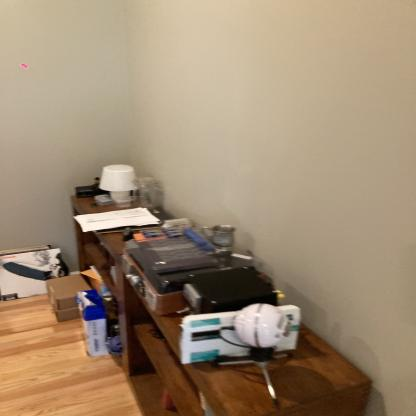target: (20, 62, 29, 70)
